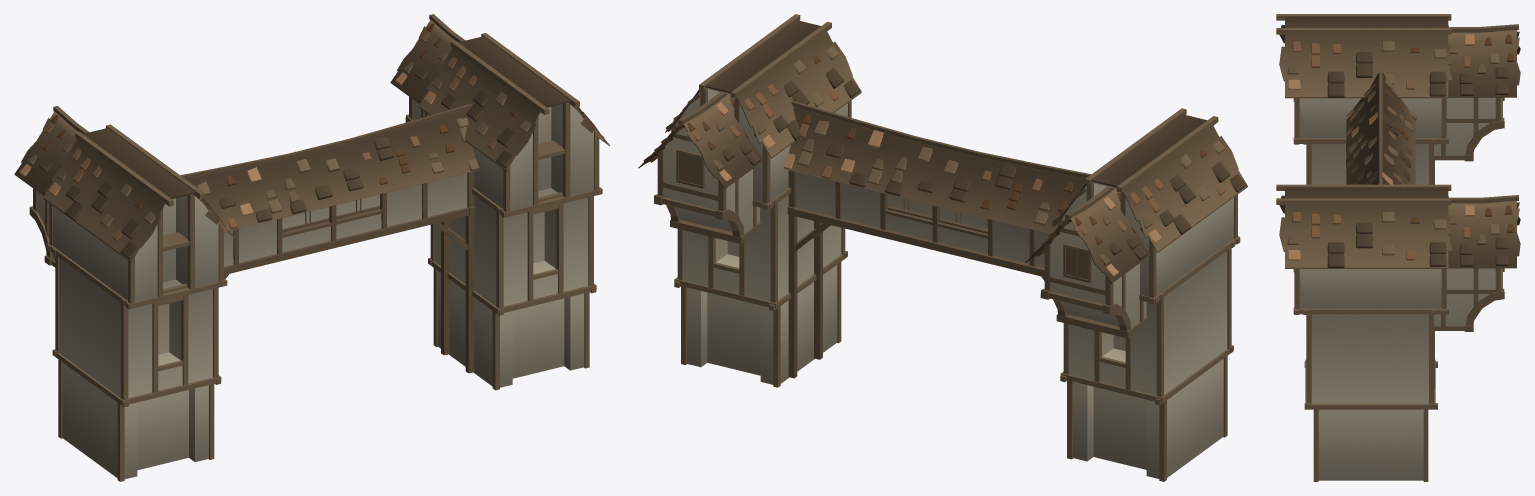
Rendered from ZLP_Build_A_1.FBX.
3 renders of one model, left to right at view 1: azimuth 30°, elevation 25°; view 2: azimuth 150°, elevation 25°; view 3: azimuth 270°, elevation 25°, orthographic. The views are drawn at different scales.
Parts seen in each view (by area): view 1: ZLP_Build_A_1; view 2: ZLP_Build_A_1; view 3: ZLP_Build_A_1.
Boxes of the visible parts, <box> form: ZLP_Build_A_1: <box>14,14,609,481</box>; ZLP_Build_A_1: <box>638,14,1247,481</box>; ZLP_Build_A_1: <box>1276,14,1520,481</box>.
Size of the model in its own units: 2027 by 1156 by 956.
